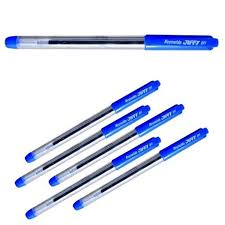pen: (28, 82, 182, 209), (2, 35, 215, 53)
